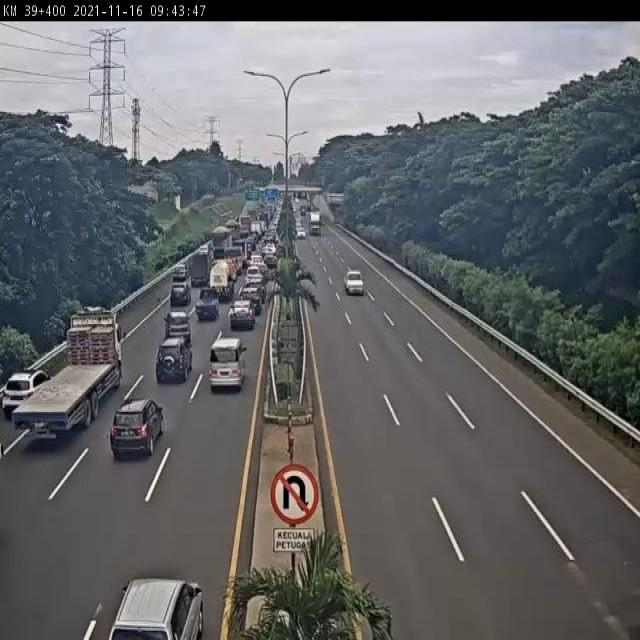Car: (106, 578, 204, 639), (110, 397, 164, 462), (1, 369, 50, 421), (208, 336, 247, 393), (154, 335, 193, 383), (164, 310, 192, 343), (228, 300, 256, 332), (195, 288, 221, 320), (238, 283, 264, 314), (170, 281, 192, 306), (344, 271, 364, 296), (244, 269, 264, 292), (173, 263, 188, 282), (296, 229, 306, 239)
Truck: (13, 306, 125, 438), (208, 257, 235, 302), (191, 252, 211, 288)
